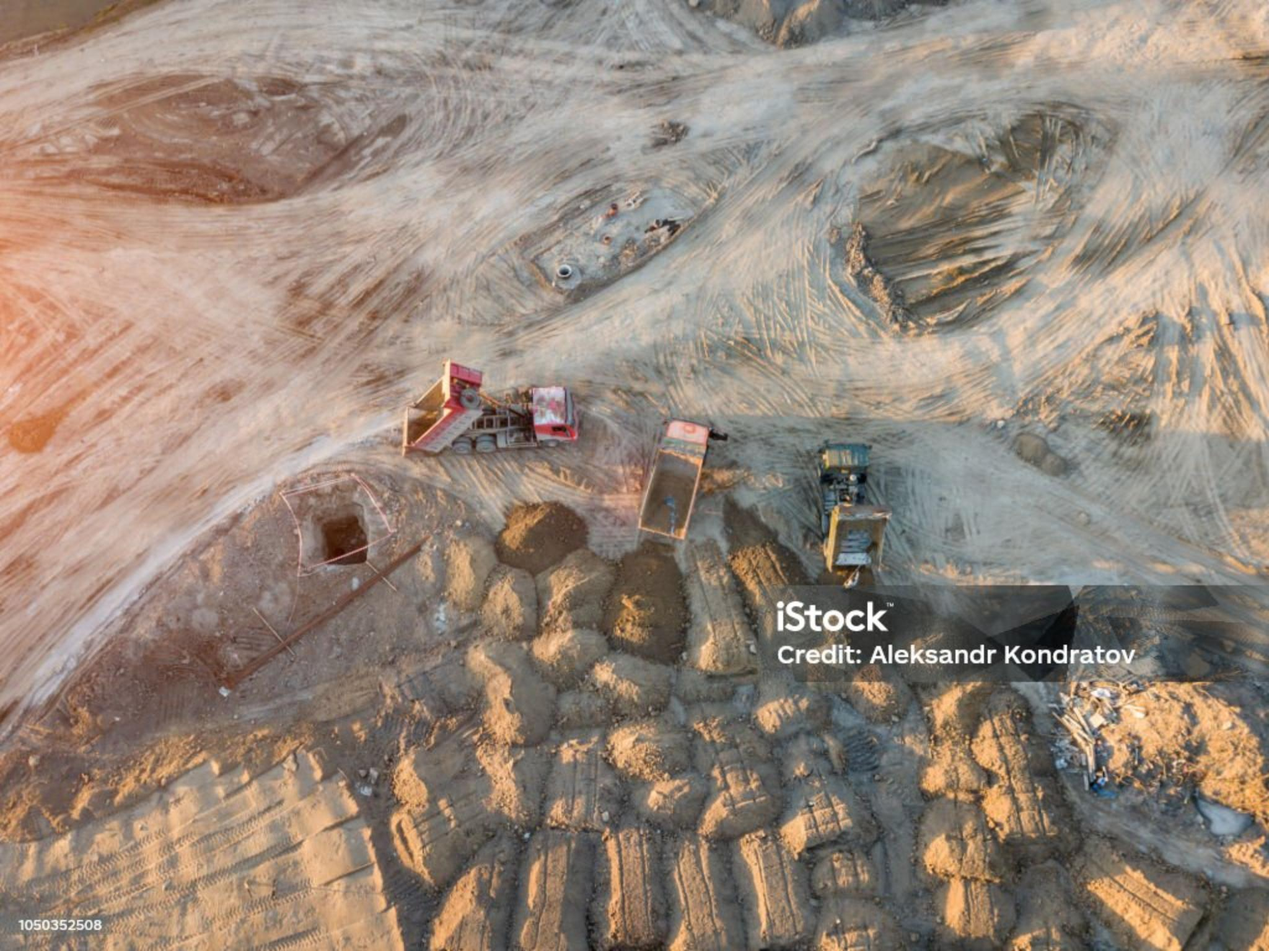truck: (399, 355, 576, 459), (808, 457, 909, 585), (642, 419, 725, 538)
